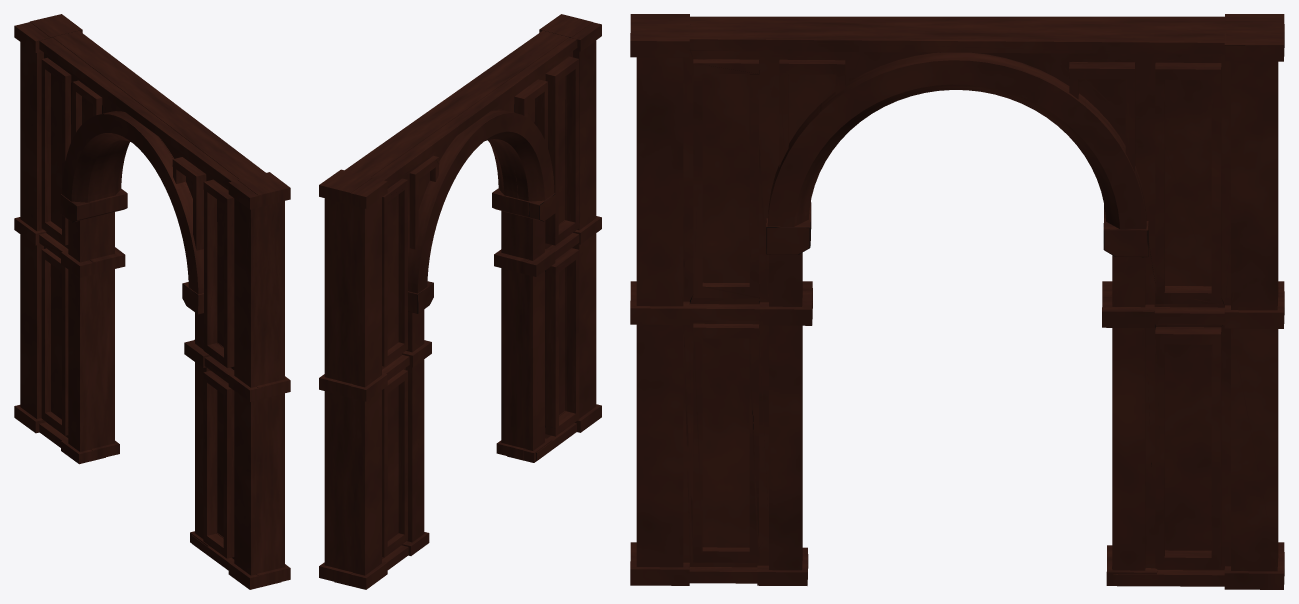
File: archway.glb
3 renders of one model, left to right at view 1: azimuth 30°, elevation 25°; view 2: azimuth 150°, elevation 25°; view 3: azimuth 270°, elevation 25°, orthographic. The views are drawn at different scales.
Parts seen in each view (by area): view 1: t.002_V5_TEMP; view 2: t.002_V5_TEMP; view 3: t.002_V5_TEMP.
Part boxes in pixels (x1=…): t.002_V5_TEMP: x1=14, y1=14, x2=290, y2=589; t.002_V5_TEMP: x1=319, y1=14, x2=601, y2=589; t.002_V5_TEMP: x1=630, y1=14, x2=1284, y2=589.
Bounding box in the file's own units: 3.83 × 27.83 × 30.29.
Materials: 1 (1 with a texture image).
